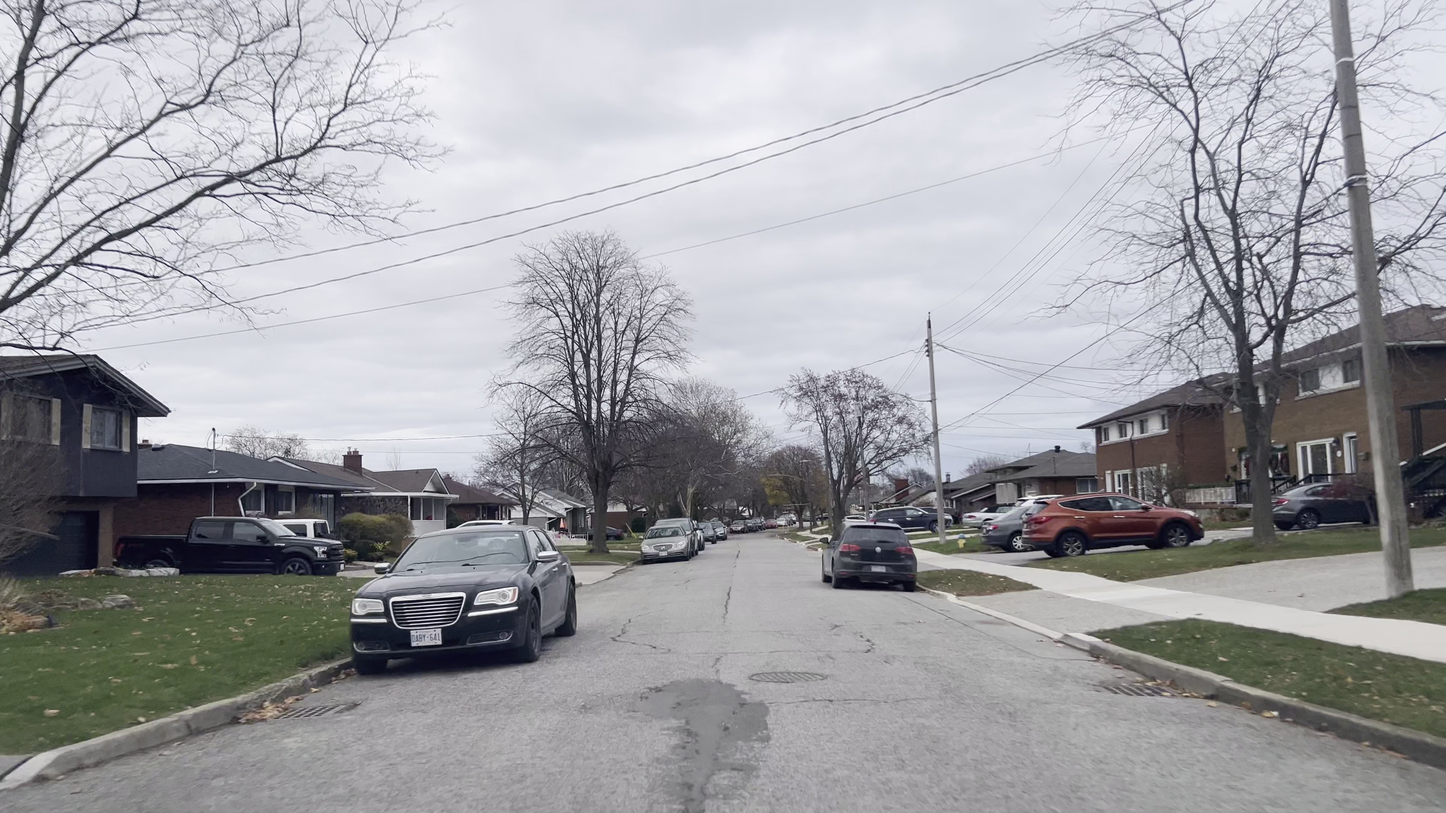cracks: (653, 676, 745, 788), (611, 620, 663, 655)
